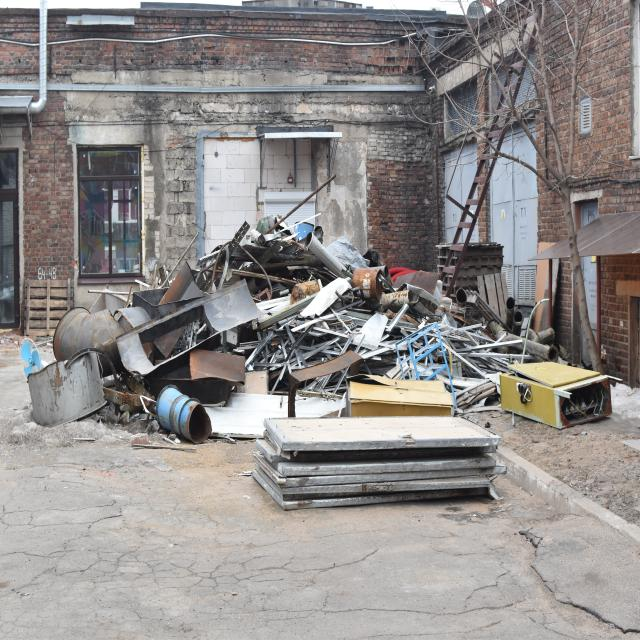entulho: (257, 300, 529, 418), (126, 315, 303, 445), (253, 416, 507, 506), (18, 302, 125, 424), (226, 206, 346, 301), (496, 360, 619, 430), (346, 242, 442, 326), (117, 273, 219, 341), (436, 240, 504, 314), (184, 239, 251, 301), (530, 237, 563, 338), (23, 274, 74, 338), (494, 320, 566, 363)
terra: (0, 406, 110, 449)
